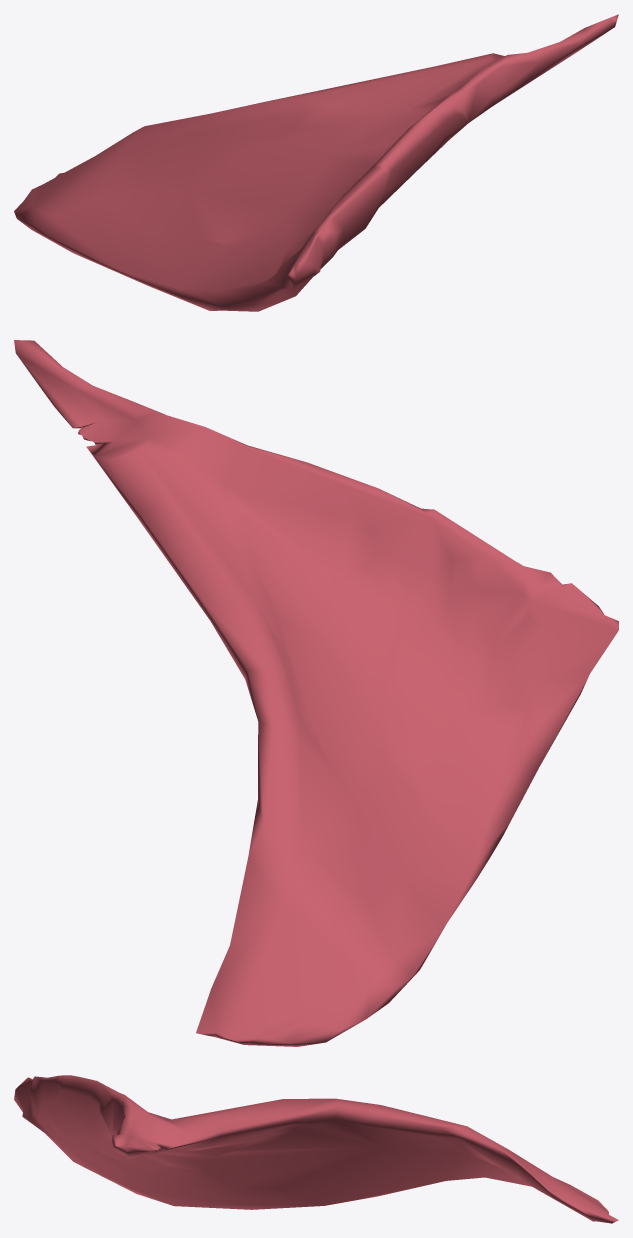
3 renders of one model, top to bottom at view 1: azimuth 30°, elevation 25°; view 2: azimuth 150°, elevation 25°; view 3: azimuth 270°, elevation 25°, orthographic. The views are drawn at different scales.
Parts seen in each view (by area): view 1: 左侧提上唇肌; view 2: 左侧提上唇肌; view 3: 左侧提上唇肌.
Boxes of the visible parts, x1,y1,x2,y2 form: 左侧提上唇肌: (14, 14, 618, 311); 左侧提上唇肌: (14, 340, 618, 1046); 左侧提上唇肌: (14, 1075, 618, 1223).
Bounding box in the file's own units: 0.0398 × 0.0219 × 0.0426.
